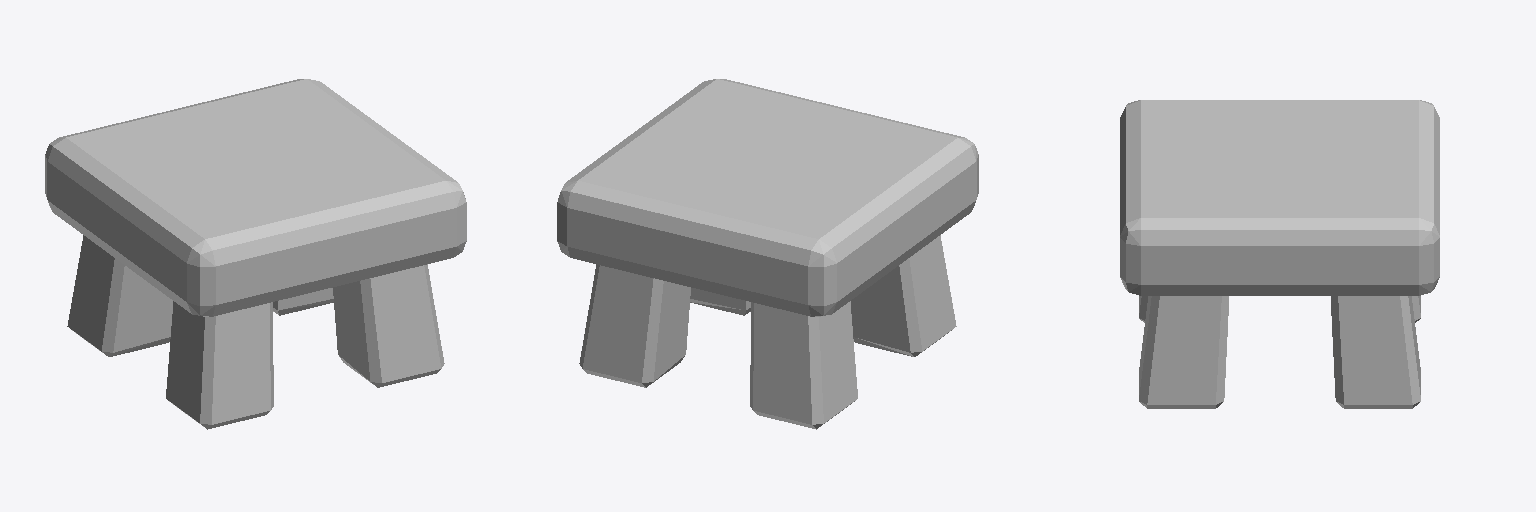
File: chair_stool_wood.obj
3 views of the same model, side by side, from view 1: azimuth 30°, elevation 25°; view 2: azimuth 150°, elevation 25°; view 3: azimuth 270°, elevation 25° (orthographic).
Visible parts, largest first — view 1: chair_stool_wood_Cube.035; view 2: chair_stool_wood_Cube.035; view 3: chair_stool_wood_Cube.035.
Part boxes in pixels (left/top/right/bottom): chair_stool_wood_Cube.035: left=45, top=79, right=466, bottom=429; chair_stool_wood_Cube.035: left=557, top=79, right=978, bottom=429; chair_stool_wood_Cube.035: left=1120, top=100, right=1439, bottom=408.
Size of the model in its own units: 0.75 by 0.5 by 0.75.